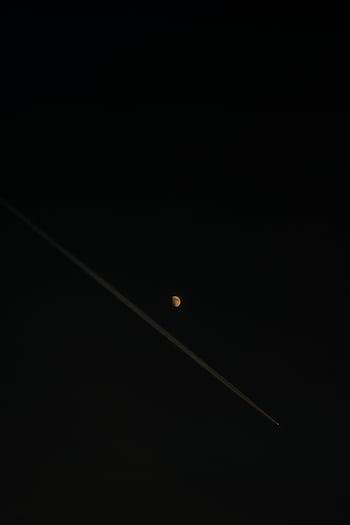Plane: (214, 354, 292, 440)
